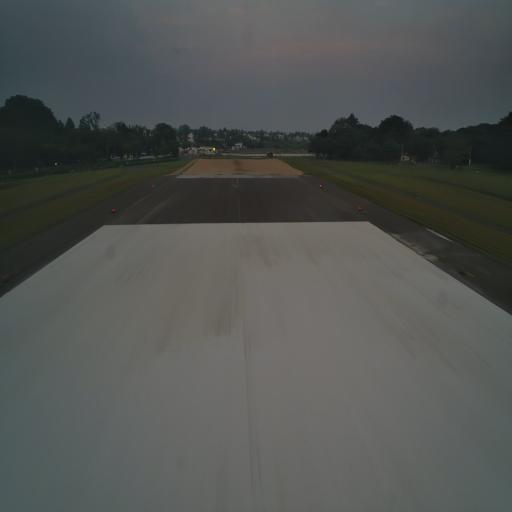off: (459, 266, 466, 280)
on: (0, 269, 9, 285), (111, 207, 116, 215), (357, 206, 362, 212)
